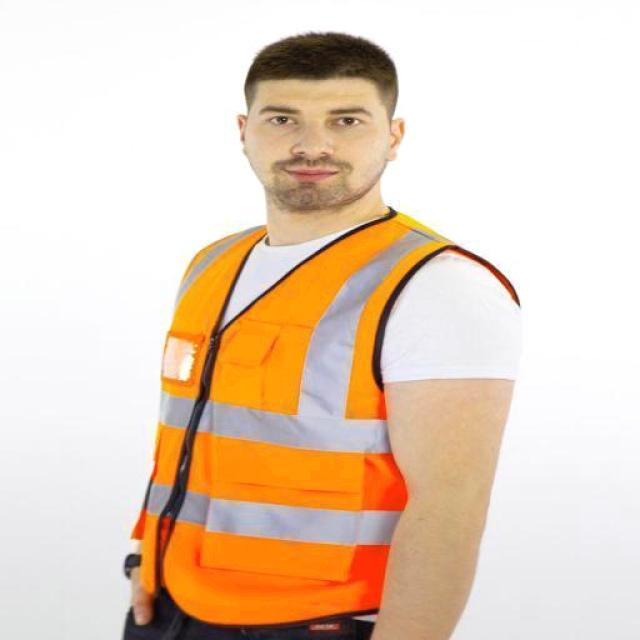face_nomask: (248, 92, 388, 202)
head_nohelmet: (230, 22, 410, 98)
person: (106, 25, 549, 640)
vest: (123, 205, 514, 617)
